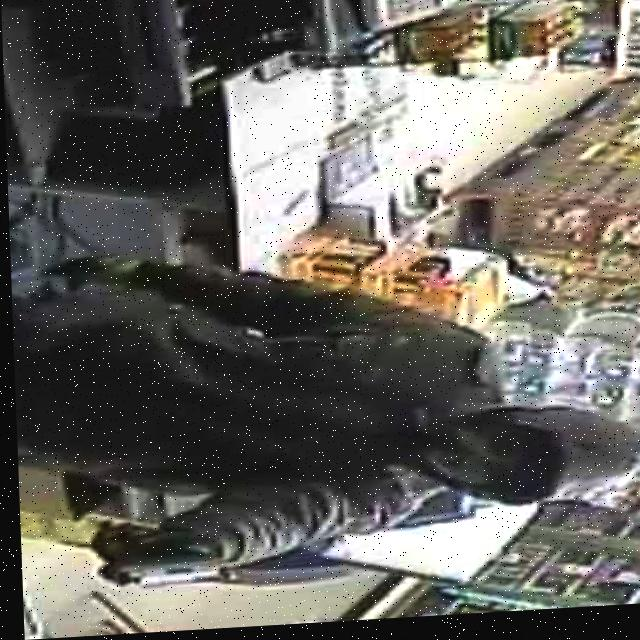pistol: (91, 540, 222, 593)
